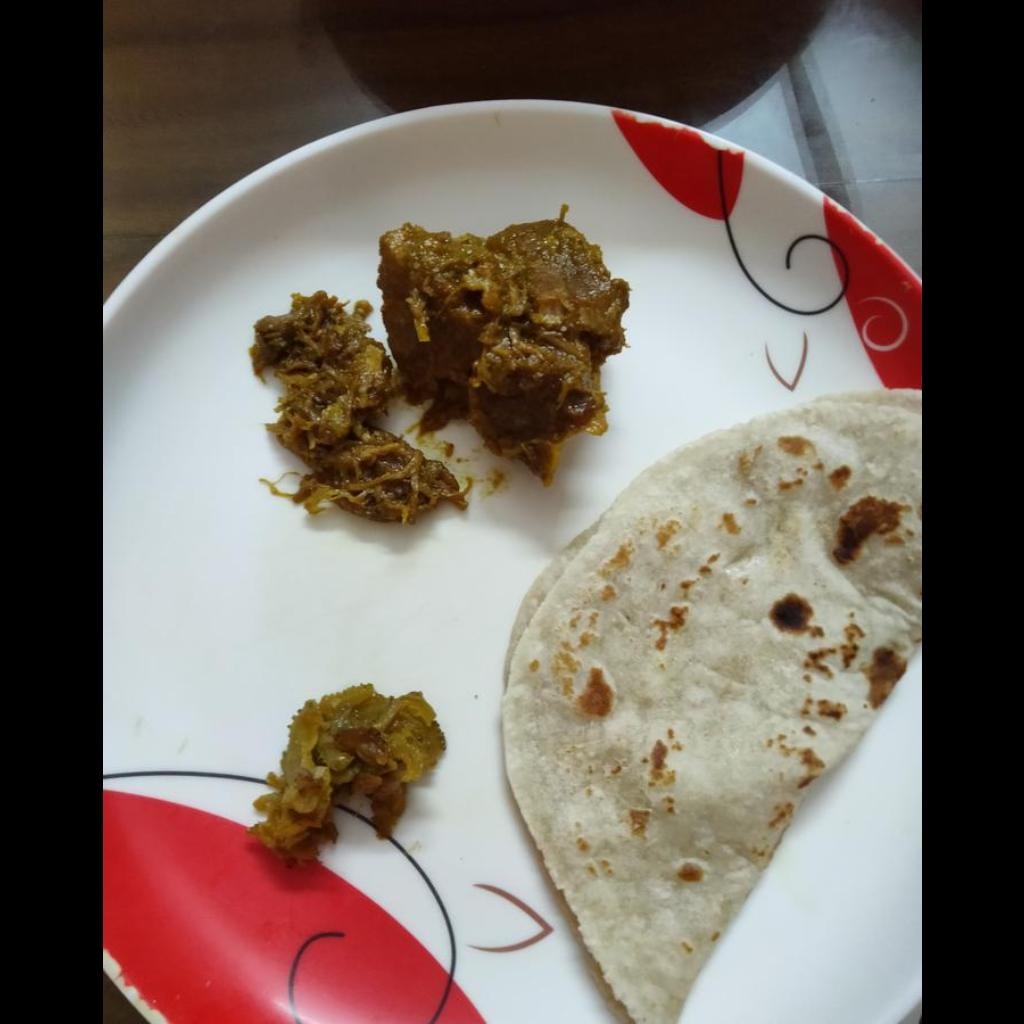beef: (379, 209, 632, 480), (249, 291, 466, 523)
ruti: (504, 389, 920, 1023)
vegetable: (250, 684, 443, 858)
